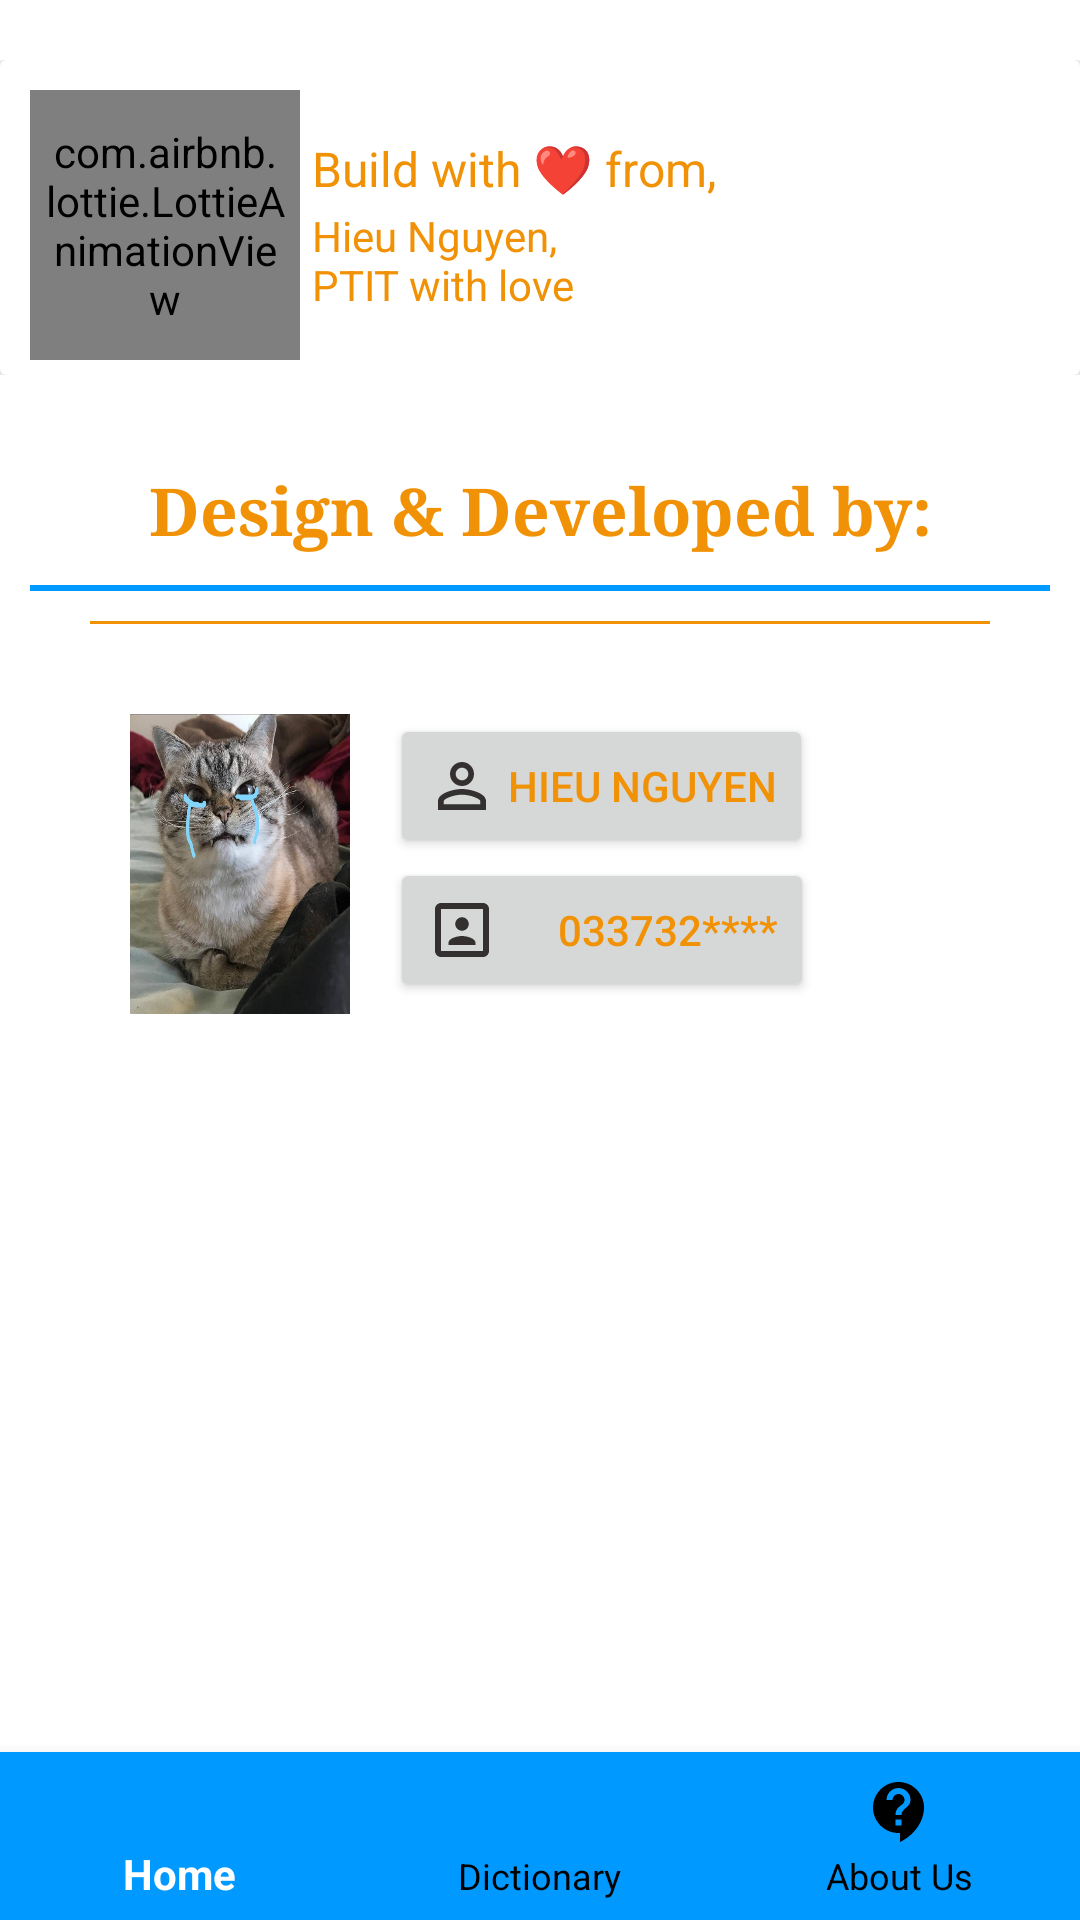

Icons on this 1080 x 1920 Android screen, each with the point to tap as point (x, y):
meo: point (240, 864)
